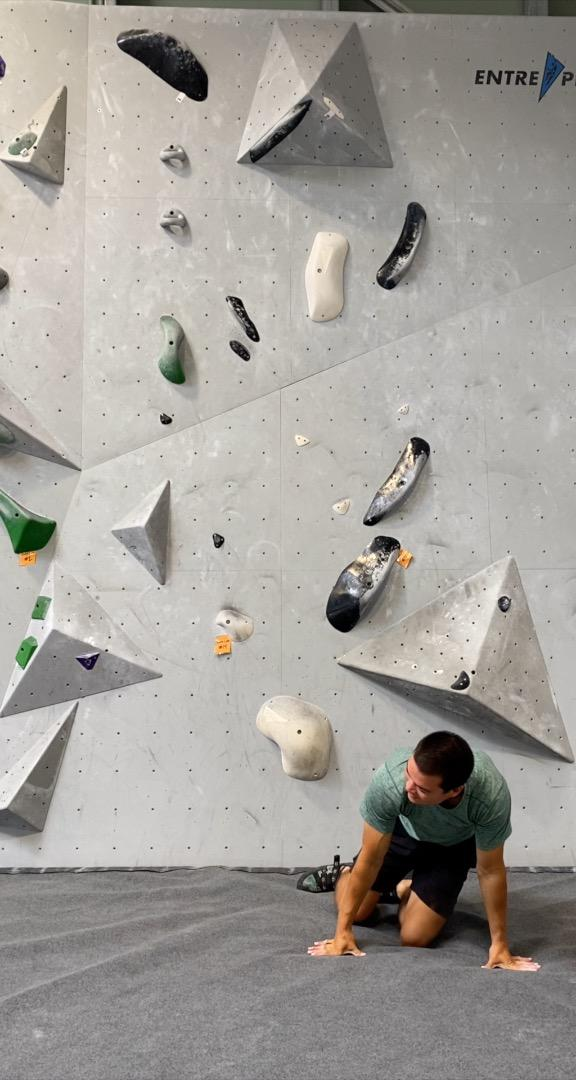holds: (324, 532, 403, 634), (115, 26, 211, 103), (255, 694, 334, 783), (362, 435, 432, 527), (0, 468, 58, 555), (375, 200, 428, 291), (245, 98, 314, 165), (303, 230, 351, 324), (157, 313, 190, 386), (223, 294, 261, 344), (215, 607, 256, 644), (14, 634, 40, 671), (7, 130, 39, 156), (158, 207, 188, 230), (158, 142, 188, 164), (227, 338, 253, 362), (30, 594, 53, 621), (322, 96, 346, 121), (0, 410, 17, 445), (73, 651, 102, 671), (449, 669, 472, 692), (0, 262, 11, 295), (332, 498, 351, 516), (210, 531, 227, 549), (496, 595, 513, 613), (294, 433, 313, 448), (0, 52, 8, 81), (158, 412, 174, 426), (397, 403, 410, 416)
